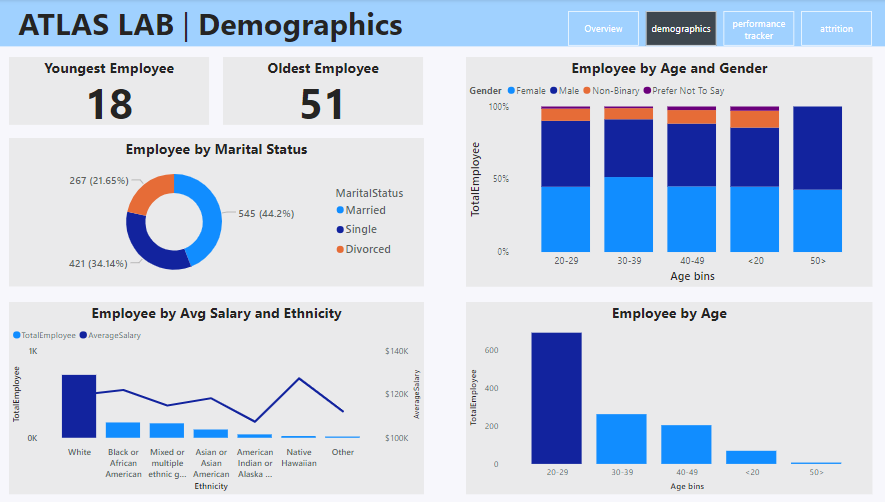

The page's visual inventory and layout, read from the dashboard file:
{"tool":"powerbi","page":{"name":"demographics","canvas":[1280,720],"ordinal":1},"visuals":[{"type":"card","title":"Youngest  Employee","fields":{"Values":["Min(DimEmployee.Age)"]},"box":[15.6,82.2,283.5,96.4],"z":0},{"type":"card","title":"Oldest Employee","fields":{"Values":["Max(DimEmployee.Age)"]},"box":[318.9,82.2,283.5,96.4],"z":1000},{"type":"columnChart","title":"Employee by Age ","fields":{"Y":["_Measures.TotalEmployee"],"Category":["DimEmployee.Age bins"]},"box":[661.9,428,575.4,272.1],"z":2000},{"type":"hundredPercentStackedColumnChart","title":"Employee by Age and Gender ","fields":{"Y":["_Measures.TotalEmployee"],"Category":["DimEmployee.Age bins"],"Series":["DimEmployee.Gender"]},"box":[661.9,82.2,575.4,324.6],"z":3000},{"type":"donutChart","title":"Employee by Marital Status","fields":{"Category":["DimEmployee.MaritalStatus"],"Y":["_Measures.TotalEmployee"]},"box":[15.6,197,586.8,209.8],"z":4000},{"type":"lineStackedColumnComboChart","title":"Employee by Avg Salary and Ethnicity","fields":{"Category":["DimEmployee.Ethnicity"],"Y":["_Measures.TotalEmployee"],"Y2":["_Measures.AverageSalary"]},"box":[15.6,428,586.8,272.1],"z":5000},{"type":"textbox","box":[0,0,1279.8,66.6],"z":6000},{"type":"pageNavigator","box":[806.5,17,430.9,49.6],"z":7000}]}

Visuals, with their boxes in screenshot pixels (x1, y1, x2, y2), scaled from the page's 1280x720 canvas onto the 885x502 screenshot:
"Youngest  Employee" card: select_region(11, 57, 207, 125)
"Oldest Employee" card: select_region(220, 57, 417, 125)
"Employee by Age " columnChart: select_region(458, 298, 855, 488)
"Employee by Age and Gender " hundredPercentStackedColumnChart: select_region(458, 57, 855, 284)
"Employee by Marital Status" donutChart: select_region(11, 137, 417, 284)
"Employee by Avg Salary and Ethnicity" lineStackedColumnComboChart: select_region(11, 298, 417, 488)
textbox: select_region(0, 0, 884, 46)
pageNavigator: select_region(558, 12, 856, 46)
